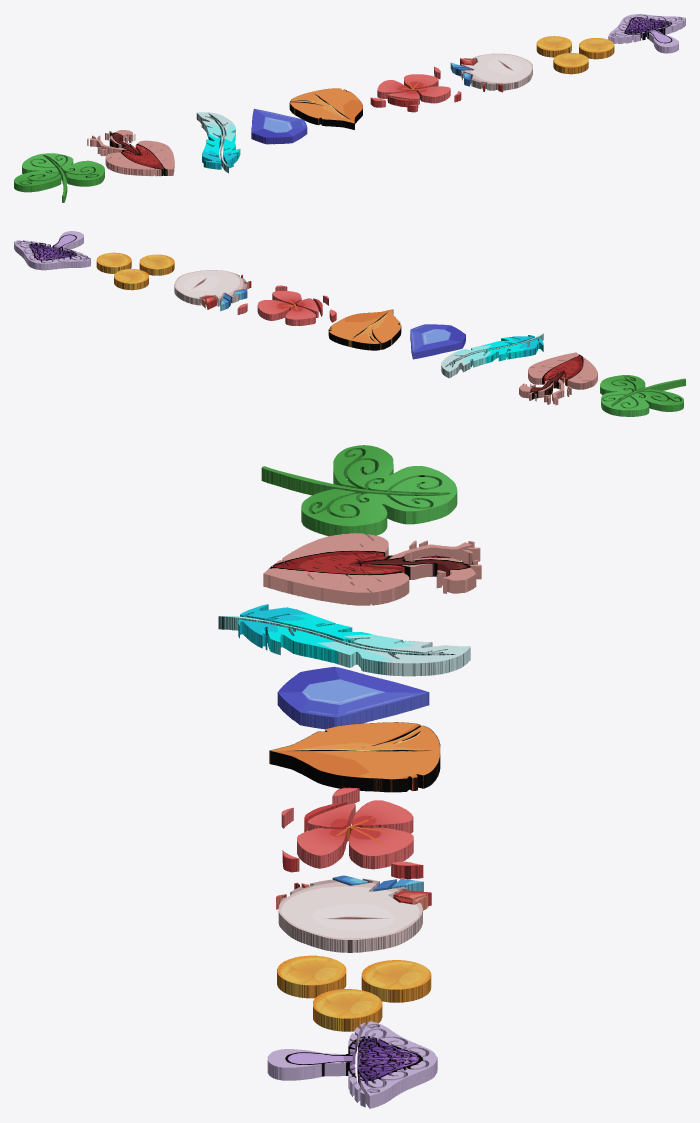
The model's file is ingredients.fbx.
3 renders of one model, top to bottom at view 1: azimuth 30°, elevation 25°; view 2: azimuth 150°, elevation 25°; view 3: azimuth 270°, elevation 25°, orthographic. The views are drawn at different scales.
Visible parts, largest first — view 1: Heartroot, Spiritherb, Seerseye, Emberscale, Blushbloom, Shroom, Seeds, Zephyrsfeather, Forzentear; view 2: Spiritherb, Heartroot, Seerseye, Emberscale, Zephyrsfeather, Blushbloom, Shroom, Seeds, Forzentear; view 3: Heartroot, Spiritherb, Seerseye, Emberscale, Zephyrsfeather, Blushbloom, Shroom, Seeds, Forzentear.
Part boxes in pixels (x1,y1,x2,y2): Heartroot: (87,130,174,176); Spiritherb: (14,153,104,202); Seerseye: (450,53,532,92); Emberscale: (289,88,362,129); Blushbloom: (370,66,461,112); Shroom: (608,14,685,53); Seeds: (536,36,614,74); Zephyrsfeather: (196,112,240,173); Forzentear: (251,108,307,144); Spiritherb: (600,375,685,416); Heartroot: (519,352,597,405); Seerseye: (174,270,251,311); Emberscale: (328,309,401,350); Zephyrsfeather: (441,333,543,378); Blushbloom: (237,285,336,325); Shroom: (14,231,90,270); Seeds: (96,252,174,290); Forzentear: (410,324,465,359); Heartroot: (263,533,481,605); Spiritherb: (261,445,457,536); Seerseye: (276,875,431,952); Emberscale: (269,722,440,792); Zephyrsfeather: (218,604,470,676); Blushbloom: (281,787,423,879); Shroom: (267,1021,437,1108); Seeds: (277,955,431,1031); Forzentear: (277,666,429,729).
Bounding box in the file's own units: 810 × 7.74 × 139.
